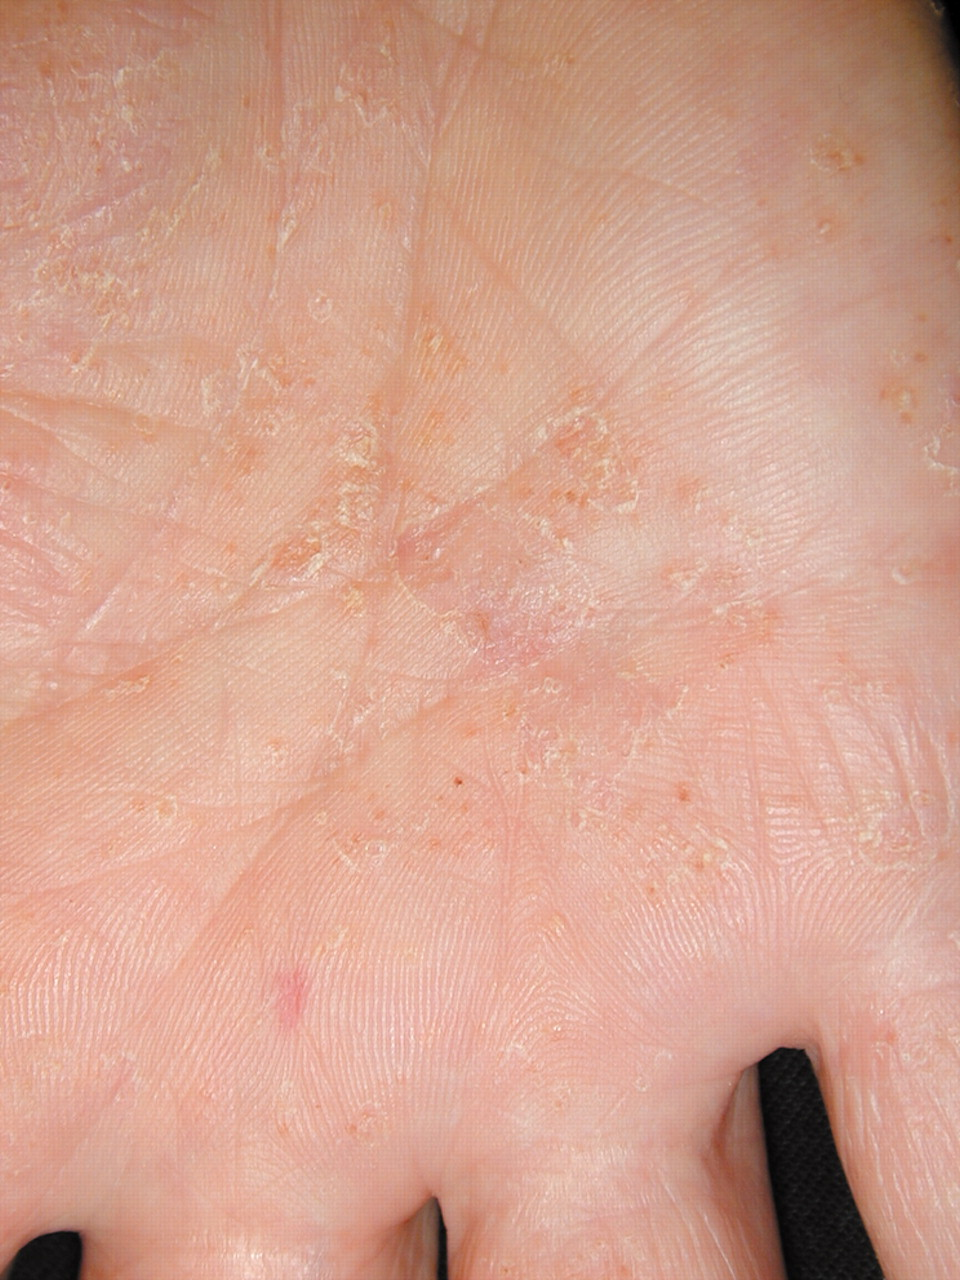Diseased: (14, 29, 934, 957)
